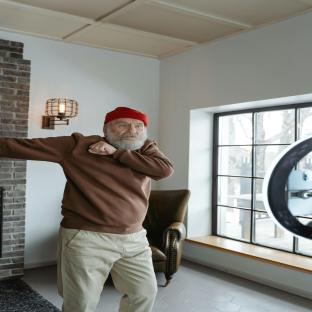Human: (0, 107, 174, 312)
